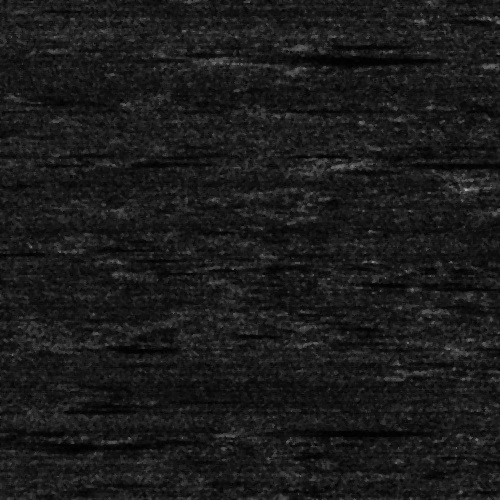rock: (161, 52, 276, 65), (302, 159, 417, 168), (204, 426, 287, 435), (491, 14, 500, 25)
shadow: (219, 52, 359, 65), (246, 426, 398, 435), (0, 434, 79, 449), (360, 159, 489, 168)
